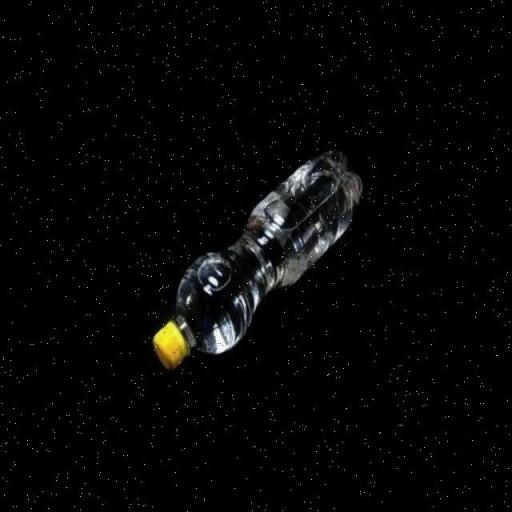plastic: (149, 129, 368, 384)
